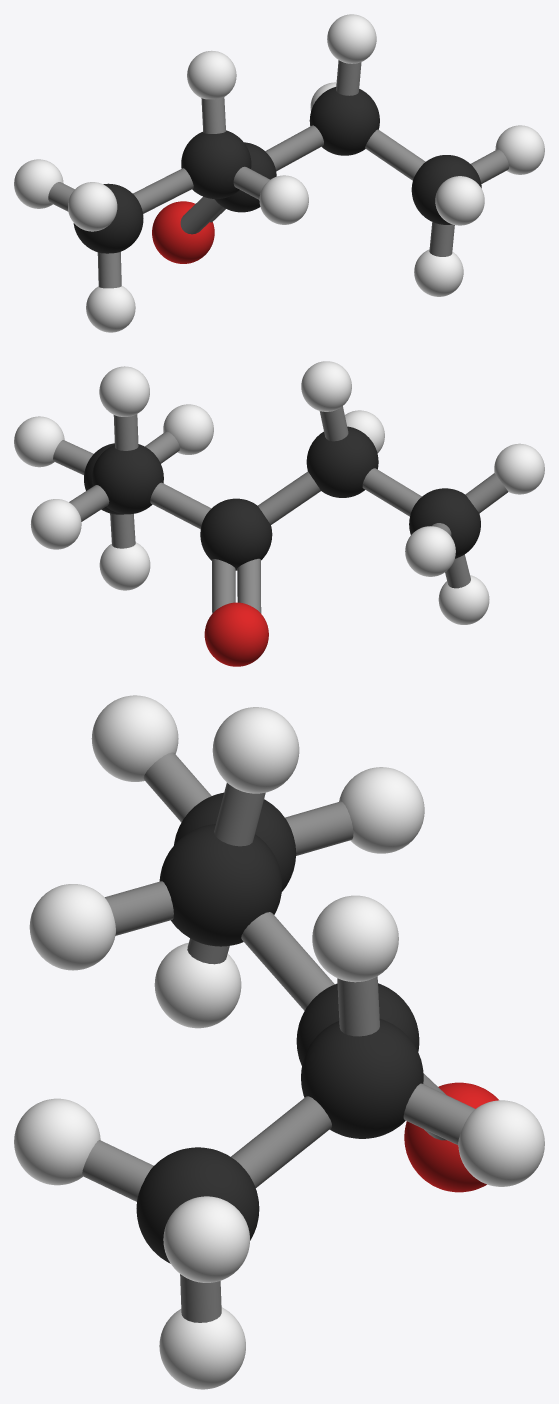
The model's file is pentan-3-on.glb.
The picture shows the model from 3 angles, top to bottom: view 1: azimuth 30°, elevation 25°; view 2: azimuth 150°, elevation 25°; view 3: azimuth 270°, elevation 25°; orthographic projection. The views are drawn at different scales.
Visible parts, largest first — view 1: C_1, C_4, O_3, C_5, C_0, H_7, H_9, H_13, H_12, H_11, H_14, H_8 (+14 smaller); view 2: C_2, C_1, C_4, O_3, C_5, H_15, H_11, H_10, H_9, H_13, H_8, H_6 (+17 smaller); view 3: C_1, C_4, C_0, H_8, H_9, H_11, H_12, H_10, H_7, H_15, H_13, H_6 (+14 smaller).
Part boxes in pixels (x1,y1,x2,y2): C_1: [309, 87, 379, 155]; C_4: [181, 130, 251, 198]; O_3: [152, 201, 214, 263]; C_5: [73, 183, 143, 253]; C_0: [411, 155, 481, 224]; H_7: [435, 176, 484, 225]; H_9: [327, 14, 376, 63]; H_13: [68, 182, 117, 231]; H_12: [259, 175, 308, 224]; H_11: [187, 50, 236, 99]; H_14: [86, 286, 135, 332]; H_8: [495, 125, 544, 174]; C_2: [200, 498, 272, 570]; C_1: [92, 444, 163, 514]; C_4: [306, 426, 378, 497]; O_3: [204, 602, 268, 666]; C_5: [409, 488, 480, 558]; H_15: [405, 526, 455, 576]; H_11: [301, 361, 351, 411]; H_10: [30, 499, 81, 549]; H_9: [99, 366, 149, 416]; H_13: [494, 443, 544, 494]; H_8: [14, 416, 64, 467]; H_6: [99, 542, 150, 590]; C_1: [301, 1019, 423, 1138]; C_4: [159, 824, 282, 946]; C_0: [136, 1147, 259, 1263]; H_8: [163, 1196, 249, 1282]; H_9: [312, 895, 398, 982]; H_11: [212, 707, 299, 793]; H_12: [29, 884, 115, 970]; H_10: [458, 1100, 544, 1186]; H_7: [14, 1098, 100, 1185]; H_15: [339, 767, 424, 853]; H_13: [91, 695, 178, 781]; H_6: [159, 1307, 245, 1389].
Bounding box in the file's own units: 6.86 × 3.77 × 3.67.
